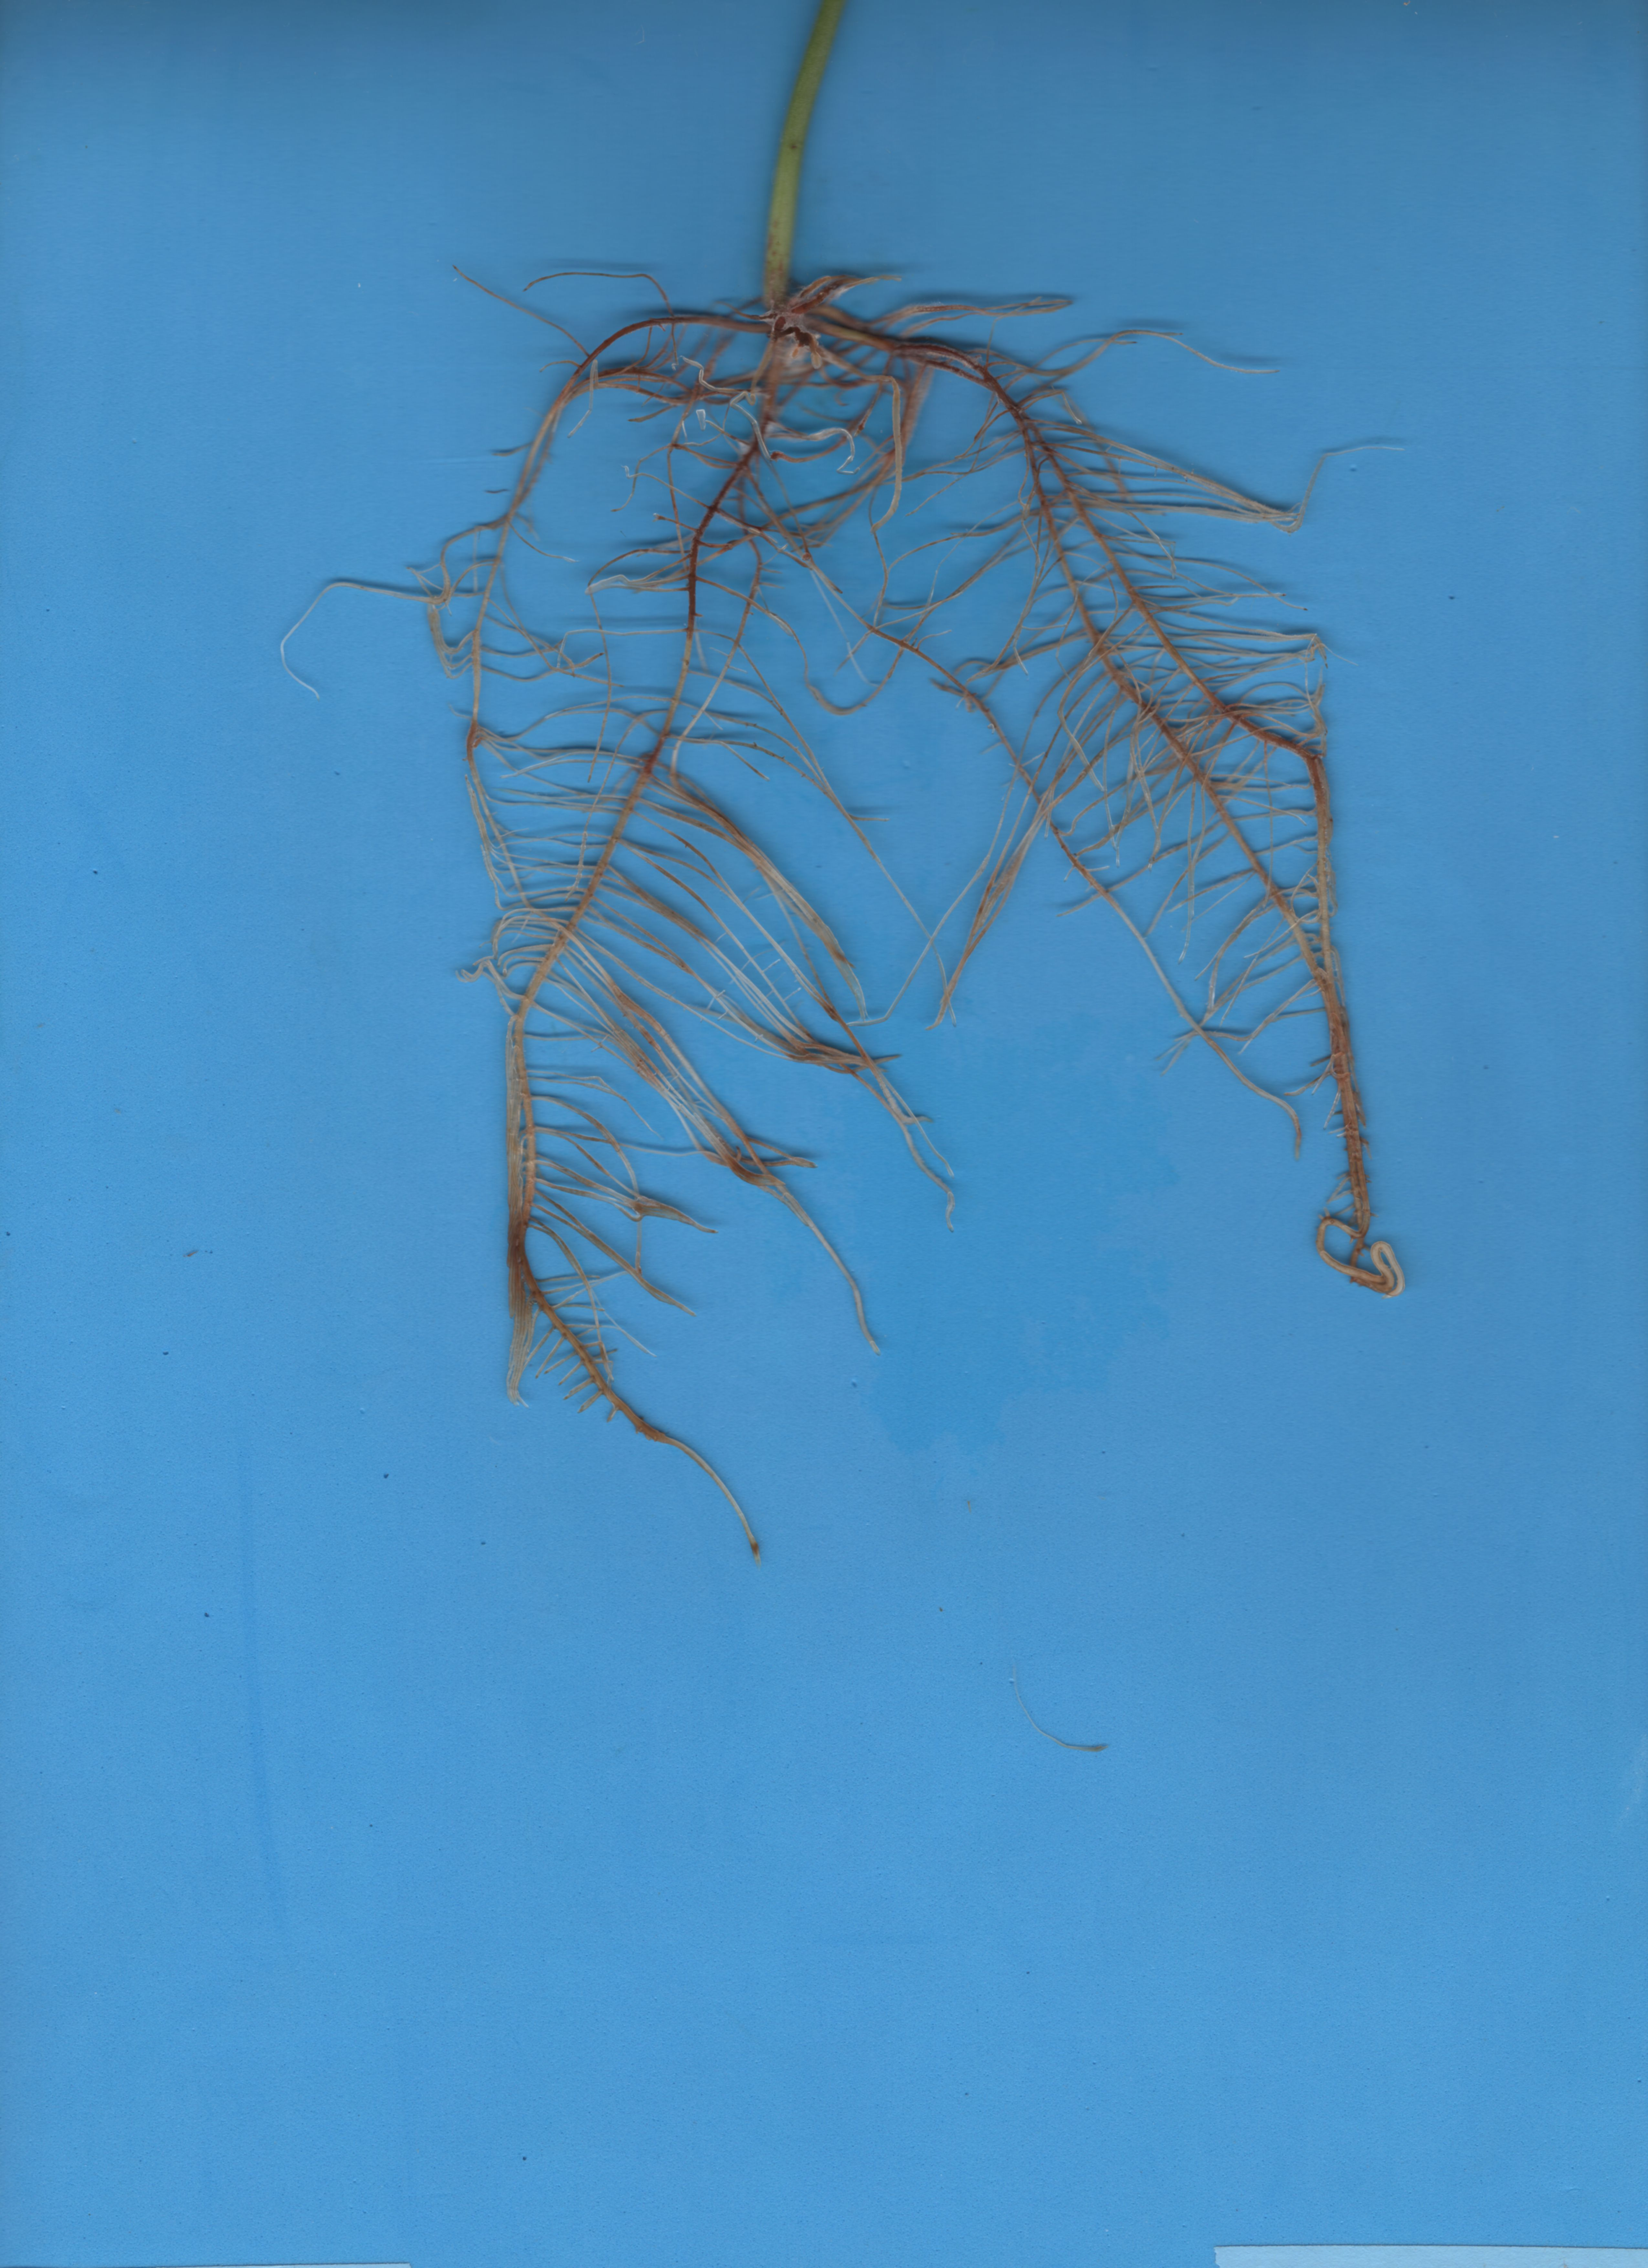CROWNGOOD: (722, 0, 910, 347)
ROOTDISEASE: (211, 245, 1453, 1624)
